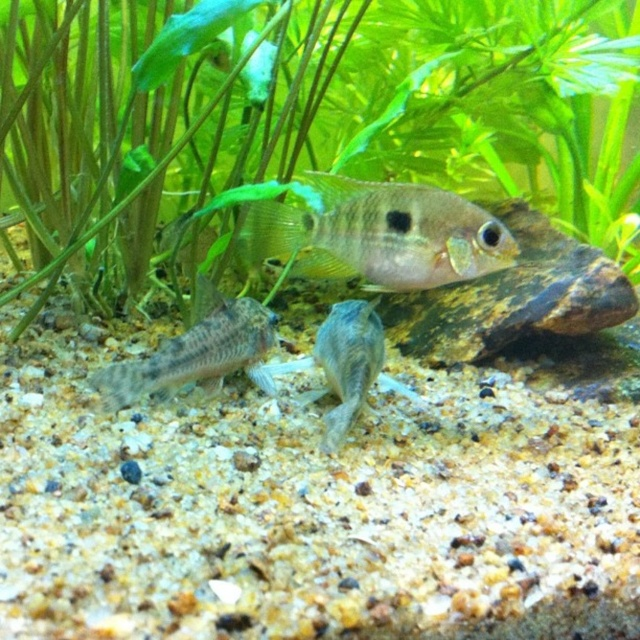Fish: (233, 168, 524, 295), (83, 270, 280, 413), (272, 299, 424, 455)
